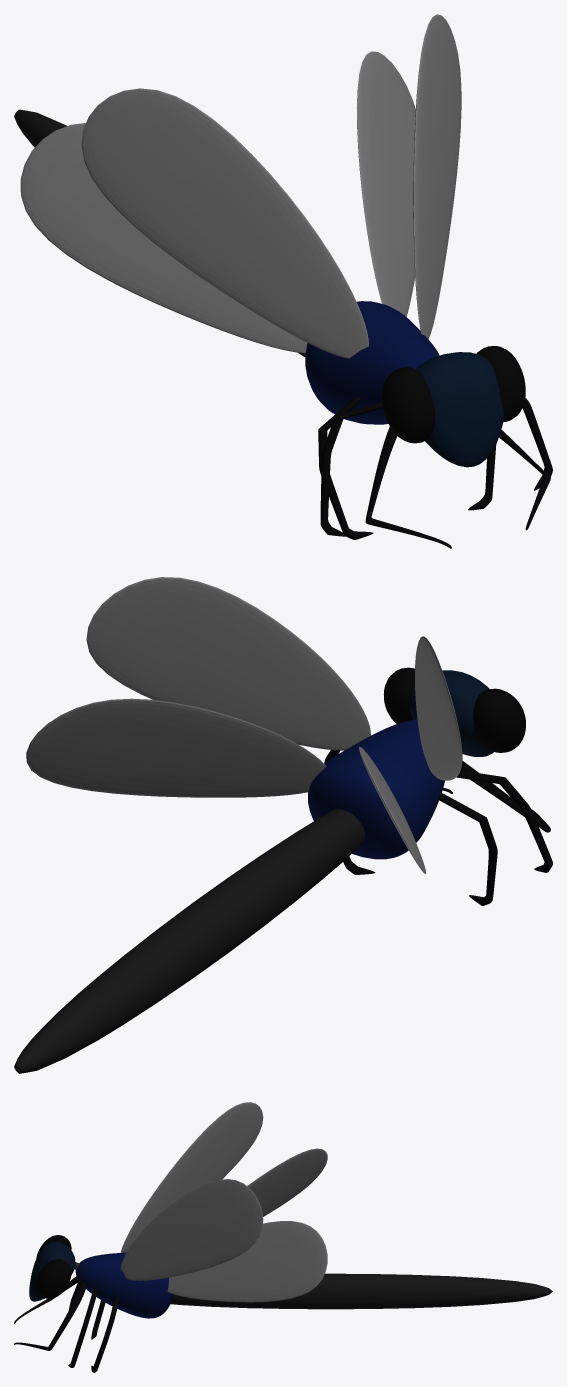
File: dragonflyModel.gltf
The picture shows the model from 3 angles, top to bottom: view 1: azimuth 30°, elevation 25°; view 2: azimuth 150°, elevation 25°; view 3: azimuth 270°, elevation 25°; orthographic projection. The views are drawn at different scales.
Visible parts, largest first — view 1: wings, thorax, head, eyes, back legs, front legs, tail; view 2: wings, tail, thorax, eyes, back legs, head, front legs; view 3: wings, tail, thorax, eyes, back legs, head, front legs.
Part boxes in pixels (x1,y1,x2,y2): wings: [20, 14, 461, 358]; thorax: [305, 301, 439, 424]; head: [416, 352, 503, 467]; eyes: [382, 346, 525, 443]; back legs: [318, 397, 552, 539]; front legs: [365, 426, 550, 548]; tail: [14, 109, 305, 356]; wings: [26, 577, 462, 873]; tail: [14, 809, 365, 1073]; thorax: [308, 719, 444, 859]; eyes: [383, 667, 525, 752]; back legs: [324, 750, 552, 905]; head: [410, 670, 493, 756]; front legs: [442, 761, 550, 832]; wings: [120, 1102, 327, 1302]; tail: [171, 1273, 552, 1309]; thorax: [75, 1252, 174, 1318]; eyes: [36, 1235, 71, 1298]; back legs: [68, 1282, 119, 1372]; head: [29, 1242, 75, 1301]; front legs: [14, 1276, 86, 1350].
Size of the model in its own units: 6.52 by 5.96 by 13.73.
